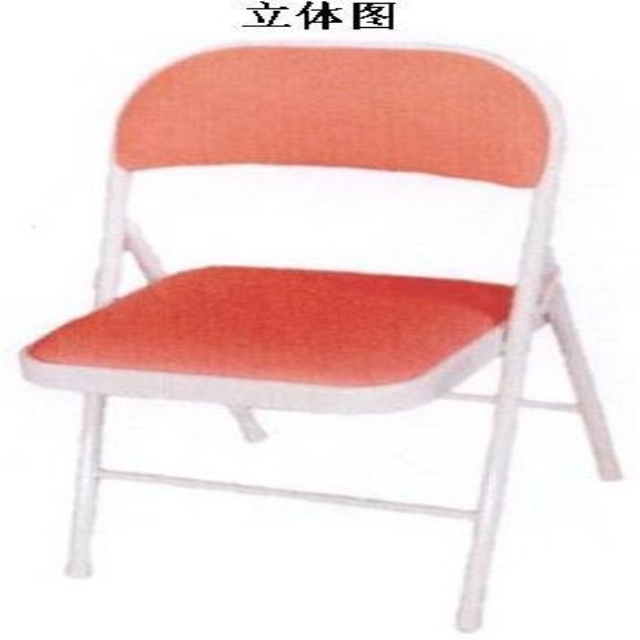obstacle: (20, 46, 618, 631)
